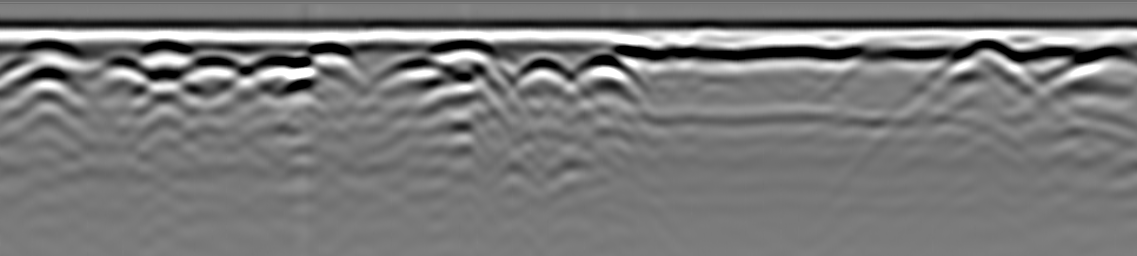pipe: (132, 34, 195, 75), (956, 36, 1016, 74), (304, 41, 364, 78), (435, 37, 498, 68), (18, 37, 77, 69)
steel: (1071, 43, 1137, 81), (245, 49, 308, 85), (571, 52, 636, 86), (511, 54, 576, 88), (388, 54, 447, 91), (185, 53, 244, 90), (92, 54, 147, 85)
